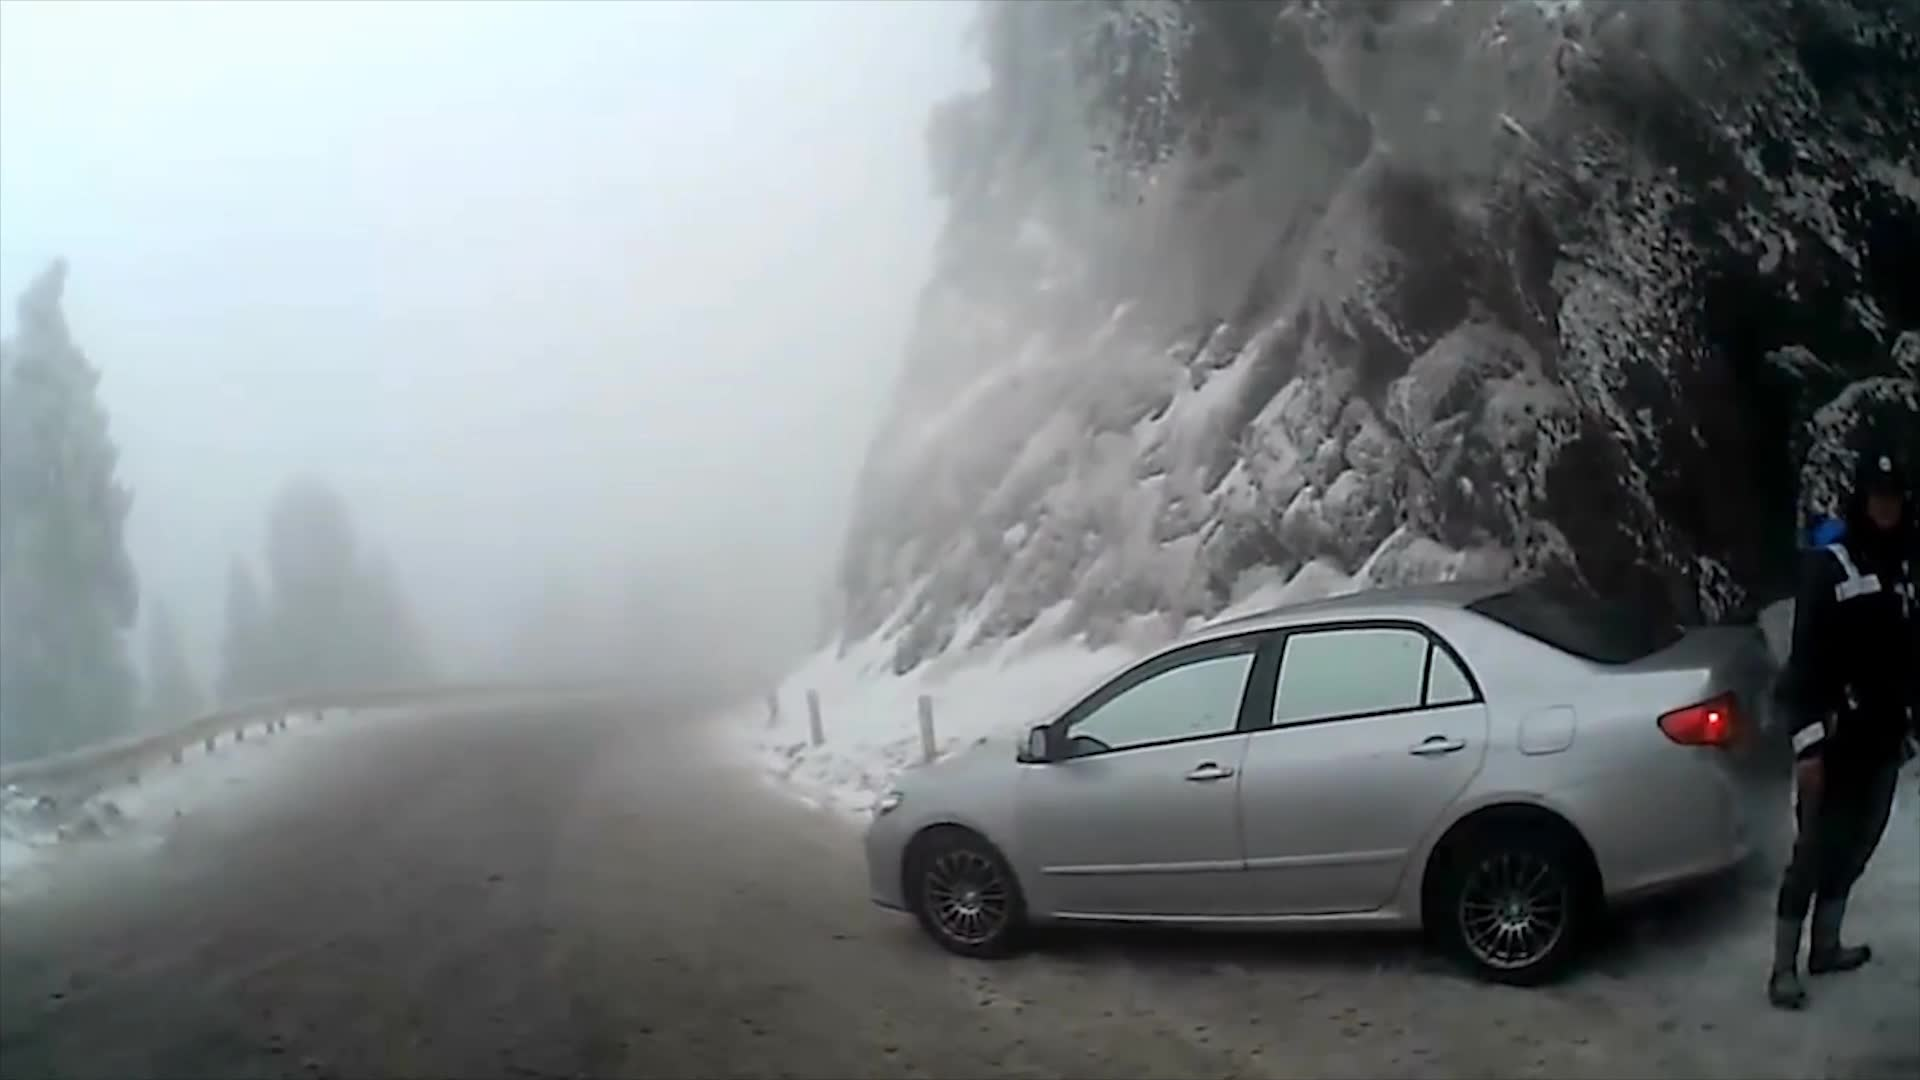pedestrian: (1771, 452, 1920, 1011)
vehicle: (861, 580, 1804, 988)
